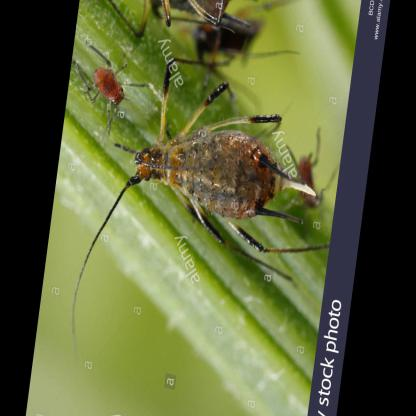uroleucon compositae: (85, 57, 320, 266)
